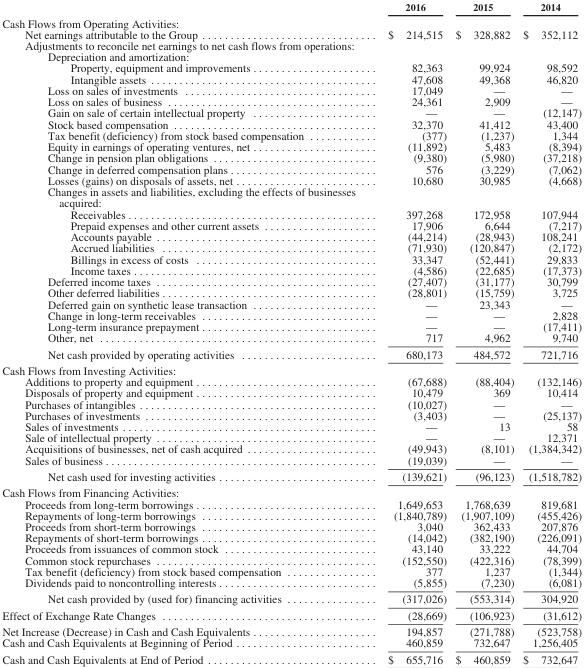table: (1, 0, 581, 665)
table column: (1, 0, 345, 665), (345, 0, 450, 665), (450, 0, 517, 665), (517, 0, 581, 665)
table column header: (1, 0, 581, 14)
table projected row header: (1, 185, 581, 208), (1, 14, 581, 28), (1, 361, 581, 375), (1, 484, 581, 498), (1, 39, 581, 50), (1, 50, 581, 61)
table row: (1, 185, 581, 208), (1, 467, 581, 484), (1, 606, 581, 623), (1, 345, 581, 361), (1, 590, 581, 606), (1, 650, 581, 665), (1, 0, 581, 14), (1, 14, 581, 28), (1, 331, 581, 345), (1, 361, 581, 375), (1, 484, 581, 498), (1, 576, 581, 590), (1, 636, 581, 650), (1, 454, 581, 467), (1, 623, 581, 636), (1, 61, 581, 73), (1, 106, 581, 118), (1, 151, 581, 163), (1, 241, 581, 253), (1, 286, 581, 298), (1, 386, 581, 398), (1, 442, 581, 454), (1, 542, 581, 554), (1, 28, 581, 39), (1, 39, 581, 50), (1, 50, 581, 61), (1, 73, 581, 84), (1, 84, 581, 95), (1, 95, 581, 106), (1, 118, 581, 129), (1, 129, 581, 140), (1, 140, 581, 151), (1, 163, 581, 174), (1, 174, 581, 185), (1, 208, 581, 219), (1, 219, 581, 230), (1, 230, 581, 241), (1, 253, 581, 264), (1, 264, 581, 275), (1, 275, 581, 286), (1, 298, 581, 309), (1, 309, 581, 320), (1, 320, 581, 331), (1, 375, 581, 386), (1, 398, 581, 409), (1, 409, 581, 420), (1, 420, 581, 431), (1, 431, 581, 442), (1, 498, 581, 509), (1, 509, 581, 520), (1, 520, 581, 531), (1, 531, 581, 542), (1, 554, 581, 565), (1, 565, 581, 576)
